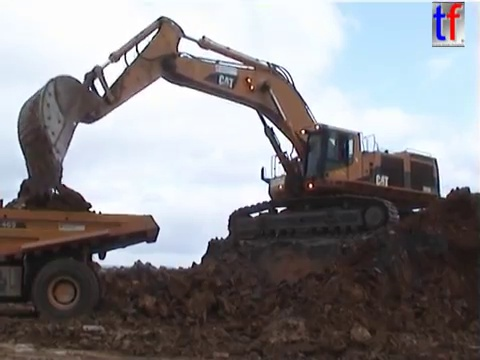excavator: (14, 12, 446, 249)
truck: (1, 202, 164, 329)
